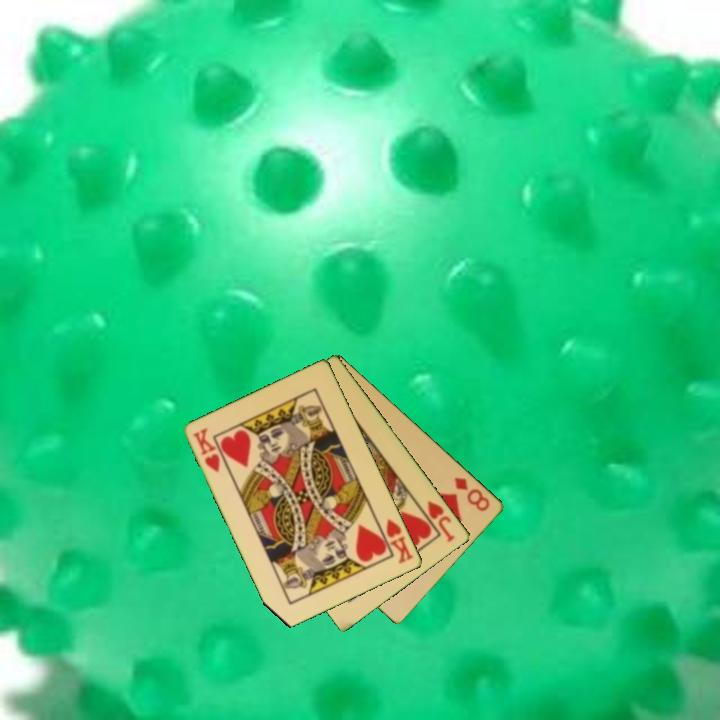8d: (451, 473, 493, 514)
Jh: (415, 497, 458, 545)
Kh: (375, 515, 417, 567), (190, 424, 223, 476)
